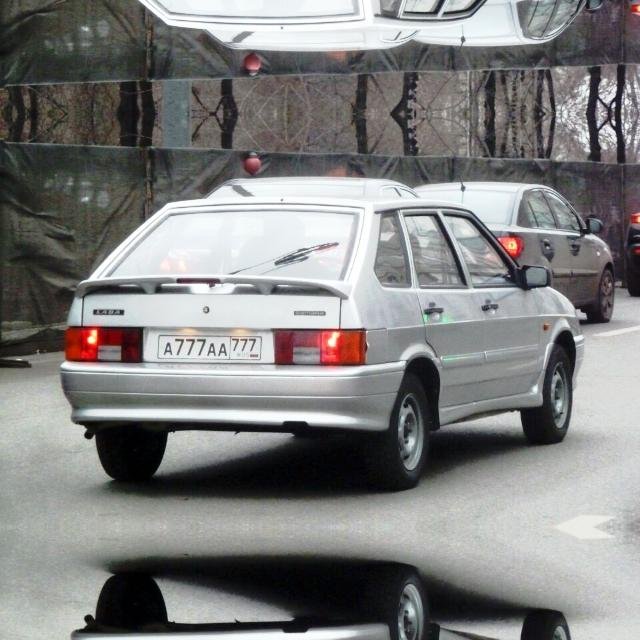citizen: (157, 331, 263, 363)
